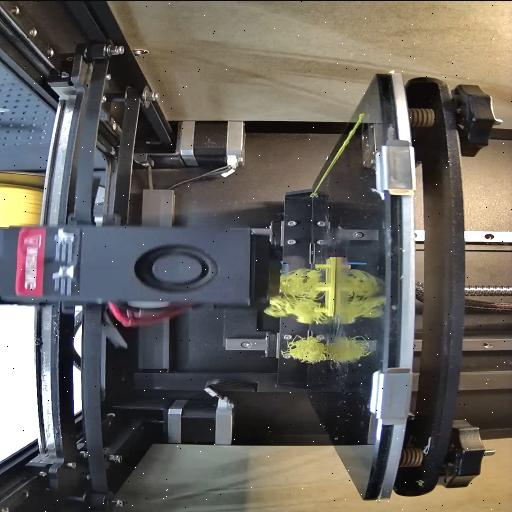spaghetti: (262, 268, 320, 328), (279, 336, 325, 364)
